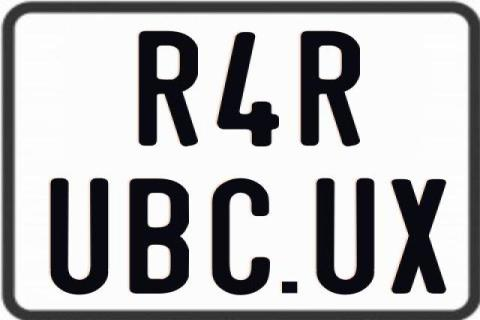0: (217, 30, 279, 148)
B: (128, 178, 193, 294)
C: (209, 178, 267, 298)
R: (136, 31, 197, 149), (298, 29, 357, 149)
U: (50, 178, 110, 298), (315, 177, 373, 297)
X: (388, 178, 447, 292)
